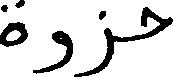X: (77, 6, 111, 76), (35, 26, 70, 76), (142, 2, 172, 43), (0, 0, 24, 51)
